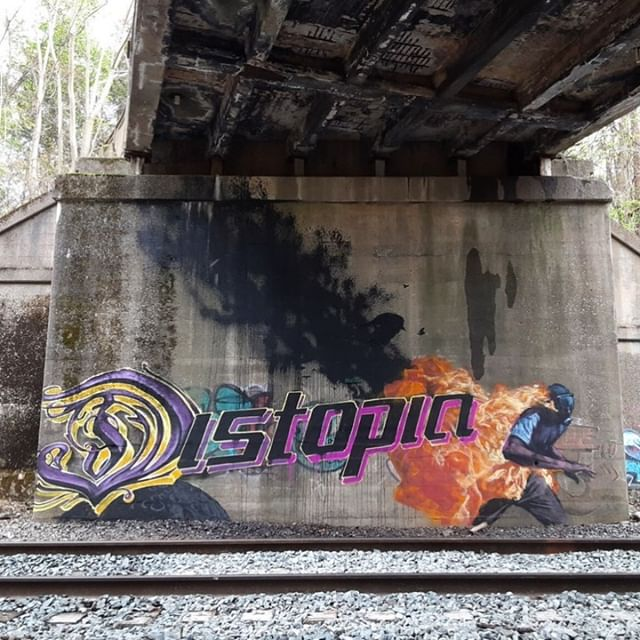graffiti: (45, 322, 601, 521)
train track: (1, 504, 640, 640)
